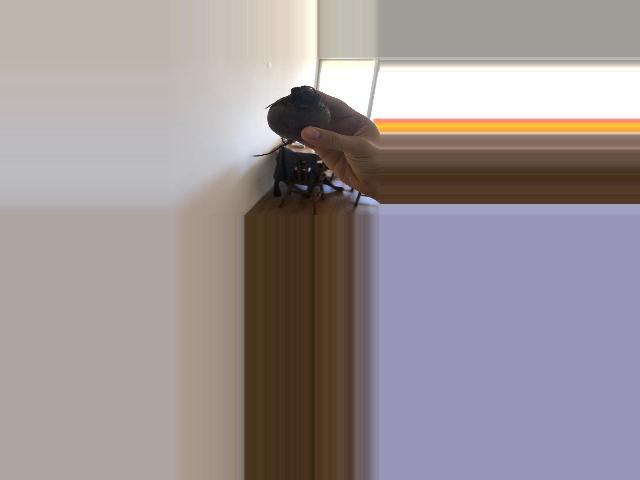beet: (250, 85, 330, 157)
